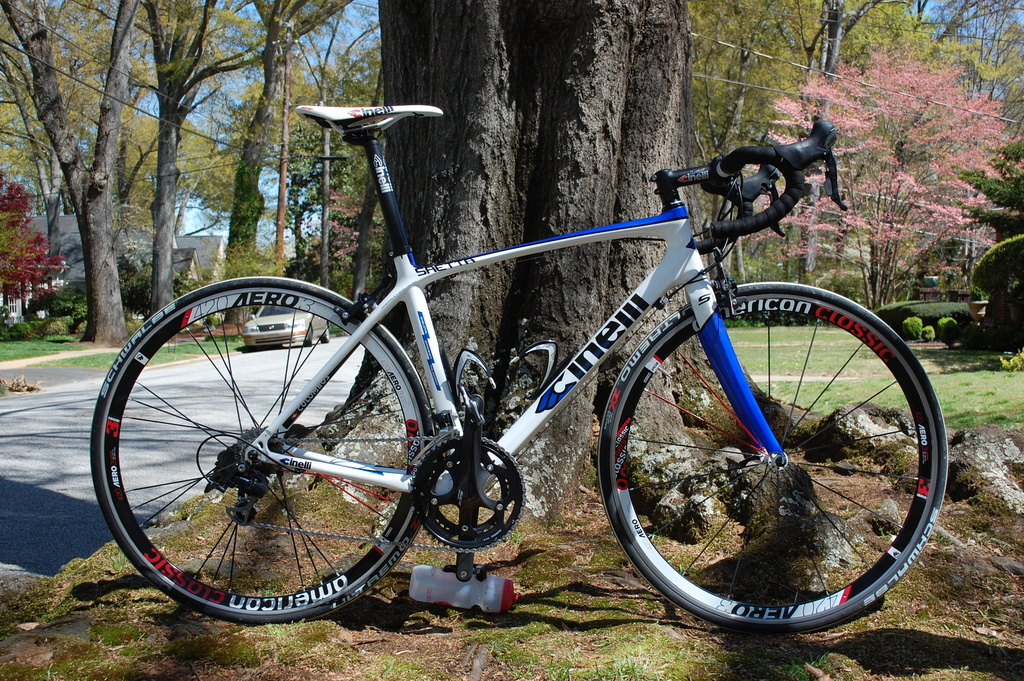Bike: (177, 215, 971, 681)
